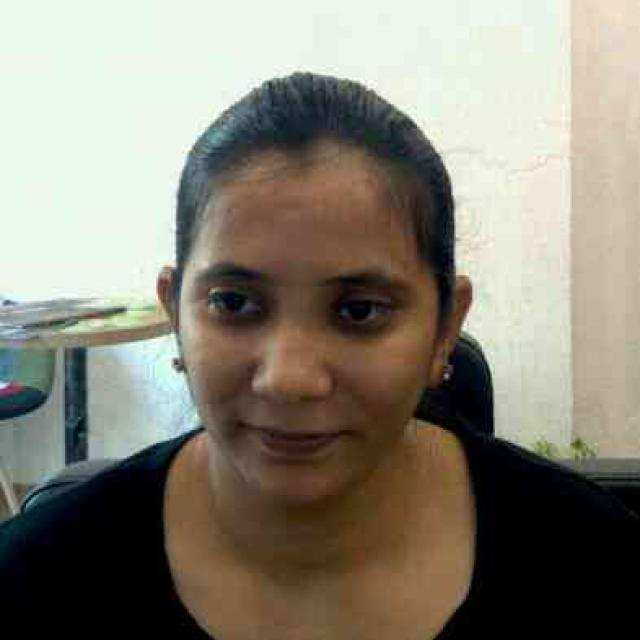puffy_eyes: (327, 323, 394, 345), (211, 314, 275, 332)
